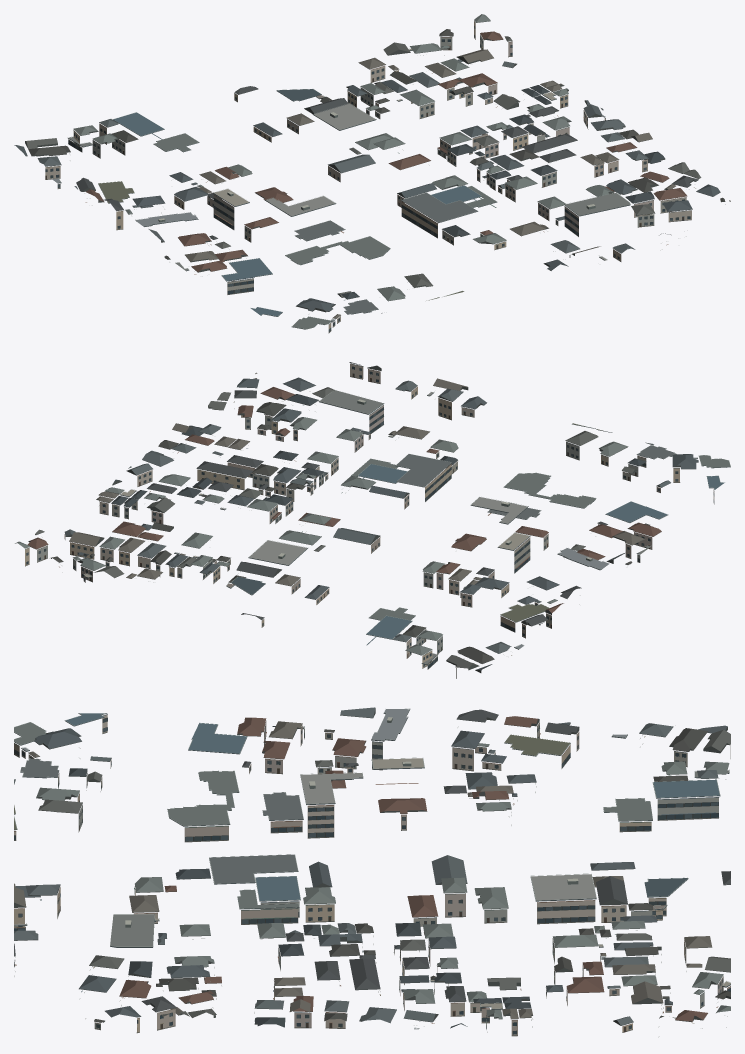
3 views of the same model, one above another, from view 1: azimuth 30°, elevation 25°; view 2: azimuth 150°, elevation 25°; view 3: azimuth 270°, elevation 25° (orthographic). The views are drawn at different scales.
Parts seen in each view (by area): view 1: r4-c7; view 2: r4-c7; view 3: r4-c7.
Part boxes in pixels (x1,y1,x2,y2): r4-c7: [14, 14, 730, 333]; r4-c7: [15, 362, 730, 678]; r4-c7: [14, 707, 730, 1037].
Bounding box in the file's own units: 250 × 17.81 × 250.
